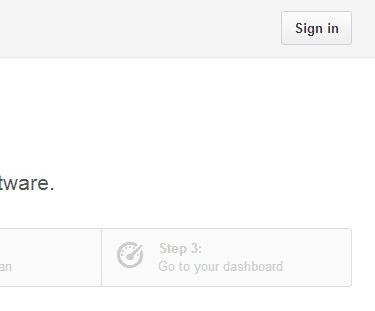button: (280, 9, 354, 46)
